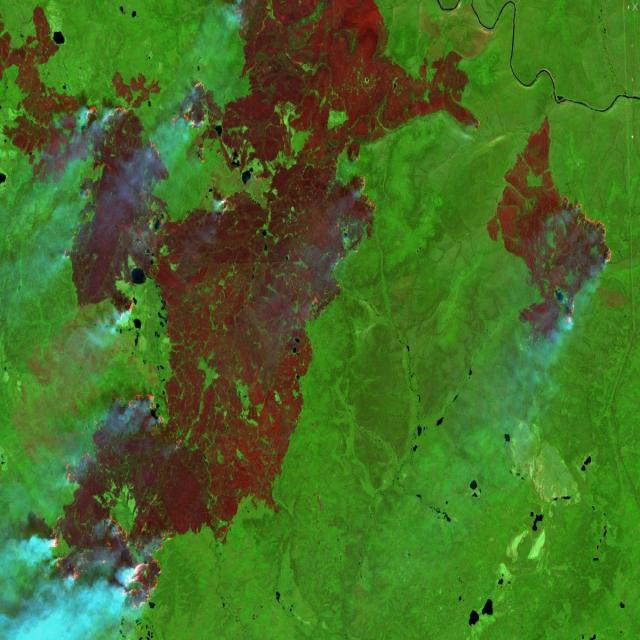fire: (44, 380, 190, 610), (81, 77, 219, 187), (554, 185, 624, 323), (114, 285, 144, 338)
